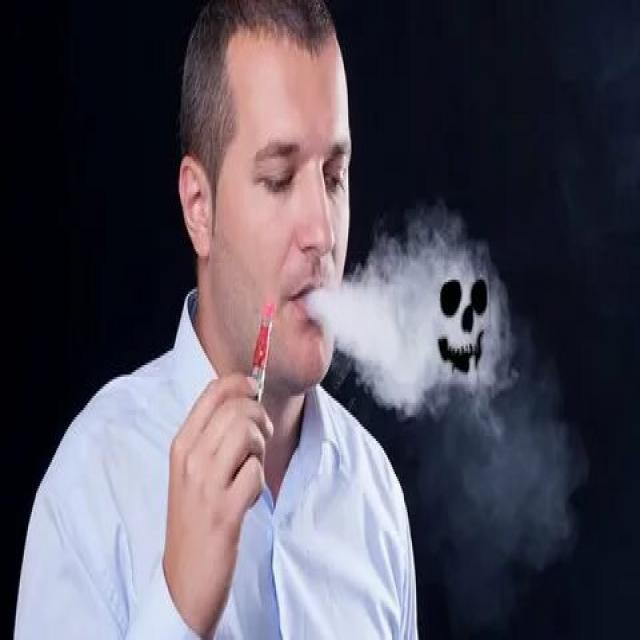cigarette: (239, 296, 280, 441)
